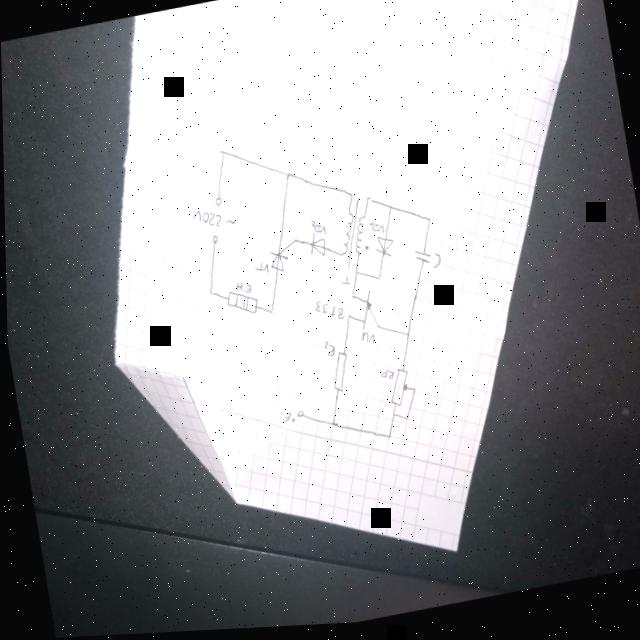capacitor: (412, 253, 431, 270)
diode: (372, 237, 396, 264), (307, 234, 327, 263)
junction: (348, 295, 356, 307), (346, 195, 353, 207), (284, 173, 291, 185), (328, 424, 335, 435), (345, 316, 352, 327), (425, 220, 432, 231), (364, 199, 371, 210), (387, 207, 394, 218), (291, 239, 298, 250), (267, 309, 274, 320), (220, 151, 227, 162), (207, 290, 214, 300), (384, 436, 391, 445), (375, 278, 382, 287), (353, 272, 360, 281), (404, 334, 410, 343), (389, 415, 395, 422), (402, 419, 408, 426), (411, 391, 417, 398)
resistor: (384, 369, 412, 414), (328, 354, 352, 397)
terminal: (212, 195, 224, 210), (209, 234, 219, 250), (293, 409, 304, 423)
text: (190, 204, 237, 238), (312, 299, 344, 328), (366, 220, 386, 242), (309, 220, 327, 242), (429, 253, 444, 276), (234, 282, 252, 300), (254, 262, 270, 280), (359, 333, 375, 350), (322, 343, 336, 362), (378, 372, 396, 386), (280, 412, 292, 428), (338, 277, 350, 290)
thyristor: (265, 248, 292, 279)
transformer: (332, 211, 372, 267)
transistor: (355, 293, 380, 338)
